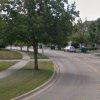Tree: (7, 6, 66, 71)
